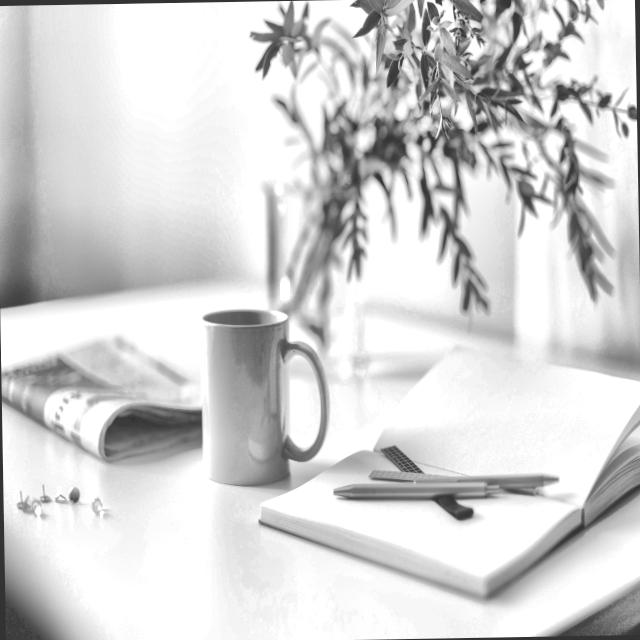Notebook: (253, 348, 640, 608)
Pen: (330, 477, 501, 505), (412, 470, 562, 500)
